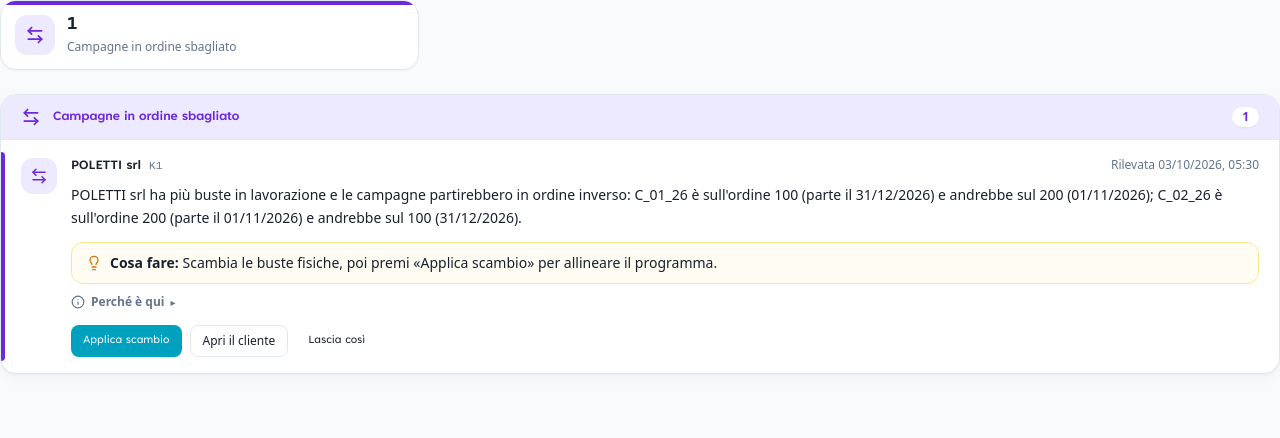
Test: elenco anomalie › mostra il messaggio del server se lo scambio non è più valido
Click the button "Applica scambio": [126, 340] box [71,324,182,356]
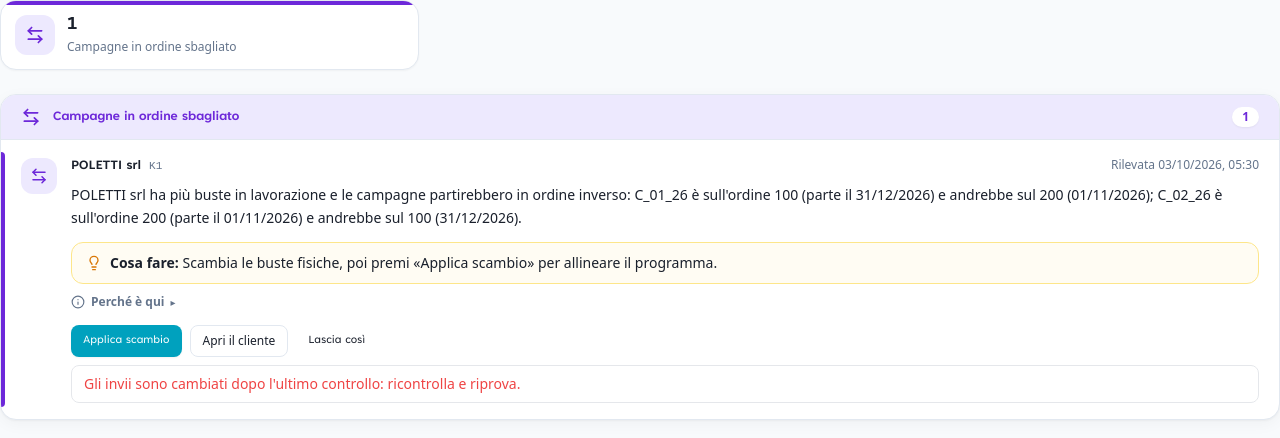
Expected: the message shows "sono cambiati", [84,374,520,392]
